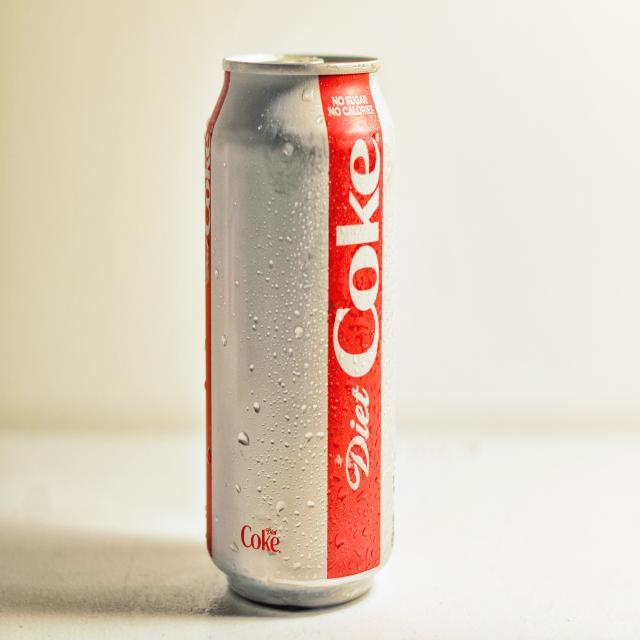can: (160, 28, 424, 612)
